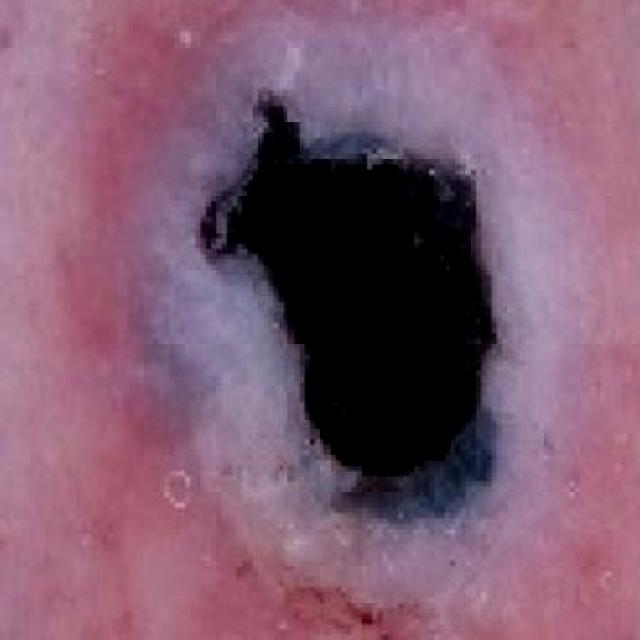VASC: (73, 0, 591, 640)
